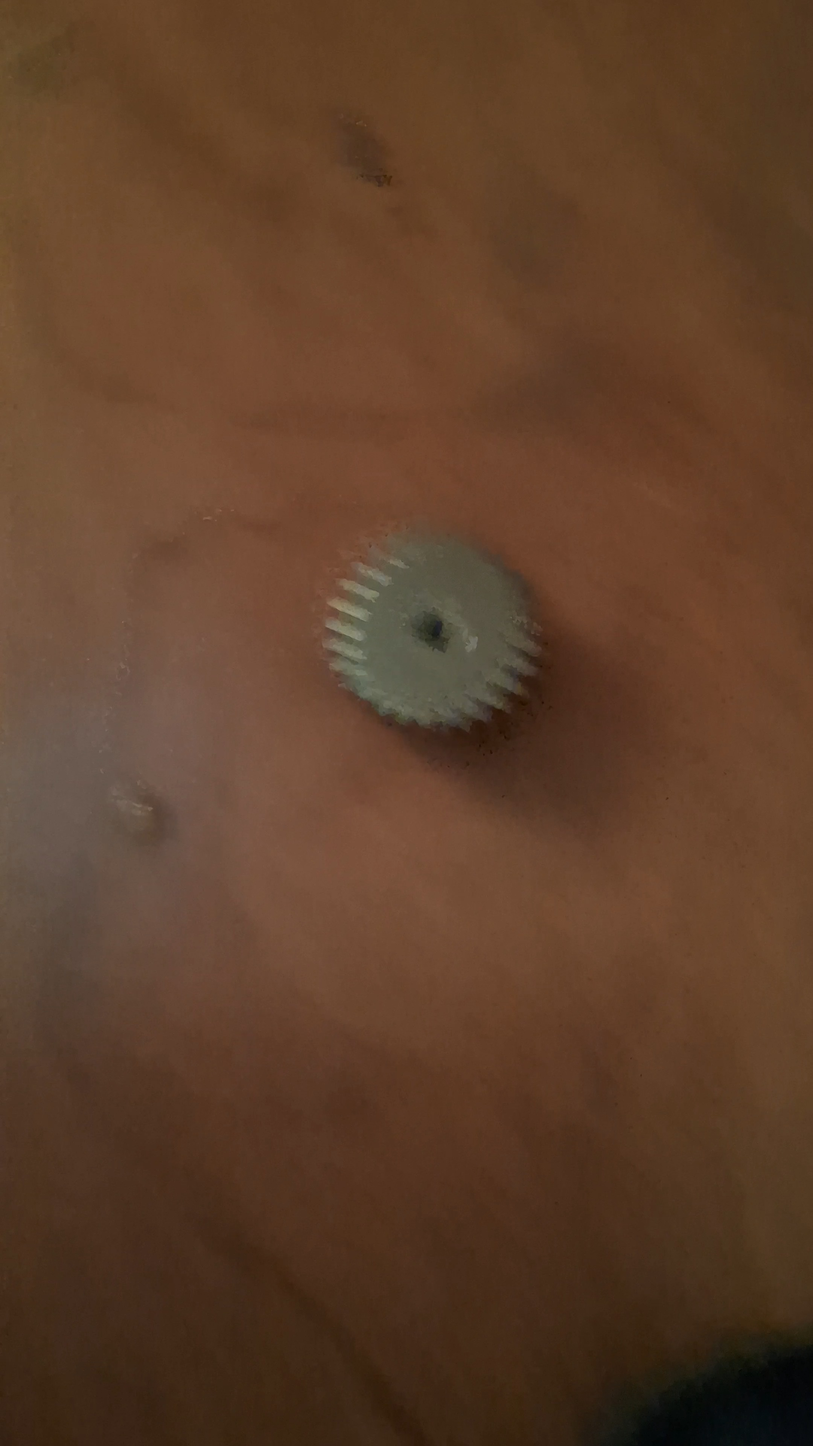spur gear: (324, 534, 540, 728)
